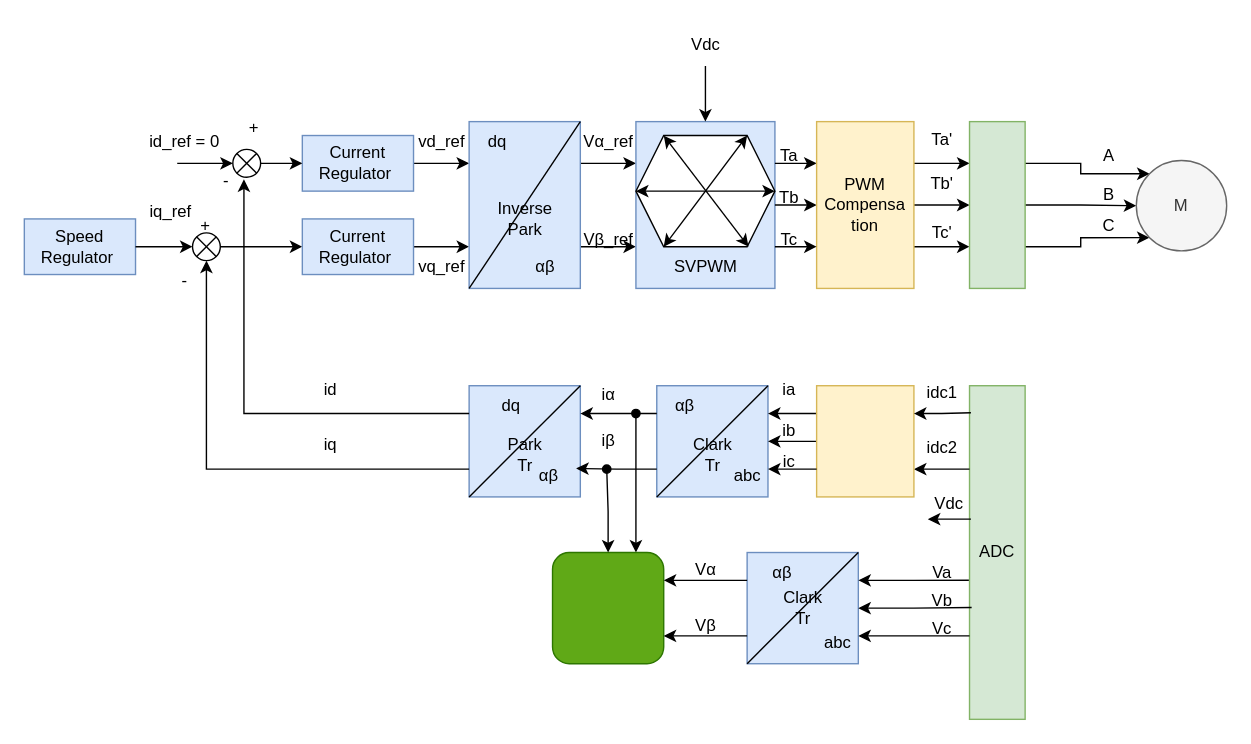
Some shapes in this 1251 by 744 pixel diagram are drawn without their labels. The shapes that lost their labels are listed below. From the top down, each one's centre as x and y in pixels, then its label:
the point at 996,204: PWM
the point at 864,440: Current reconstruc tion
the point at 607,607: Observer Fast
